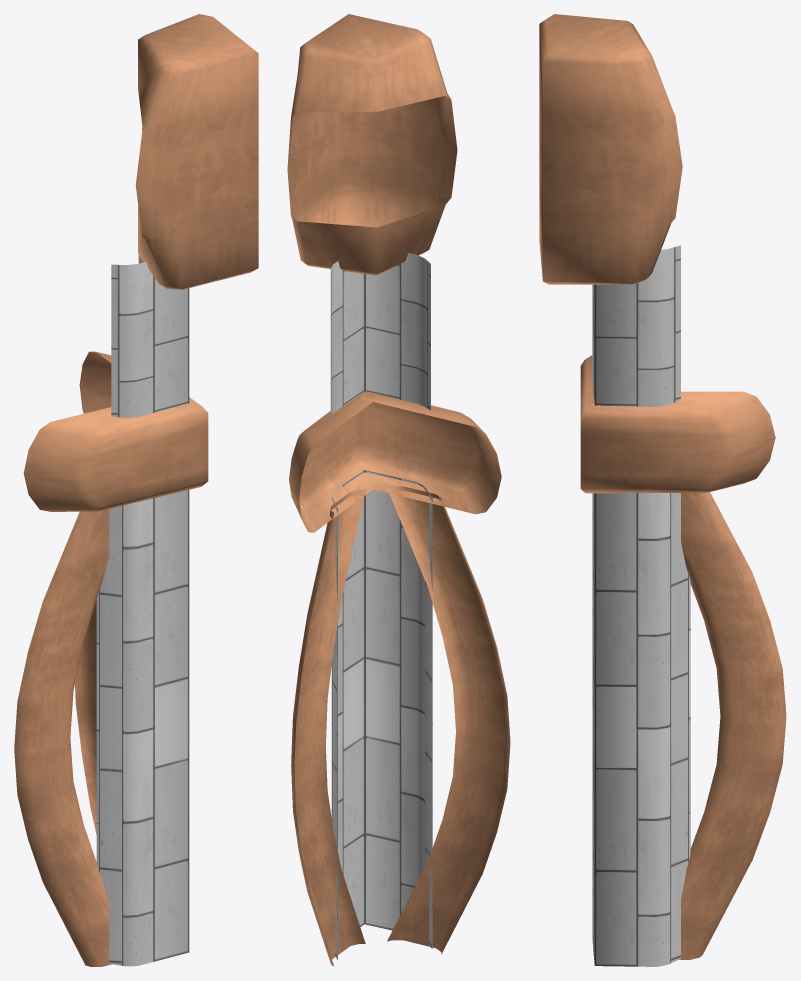
Rendered from SM_Corner_03.fbx.
3 renders of one model, left to right at view 1: azimuth 30°, elevation 25°; view 2: azimuth 150°, elevation 25°; view 3: azimuth 270°, elevation 25°, orthographic. The views are drawn at different scales.
Parts seen in each view (by area): view 1: SM_Corner_03; view 2: SM_Corner_03; view 3: SM_Corner_03.
Boxes of the visible parts, x1,y1,x2,y2 form: SM_Corner_03: (14,14,258,966); SM_Corner_03: (287,14,510,966); SM_Corner_03: (539,14,786,966).
Bounding box in the file's own units: 117 × 117 × 485.
